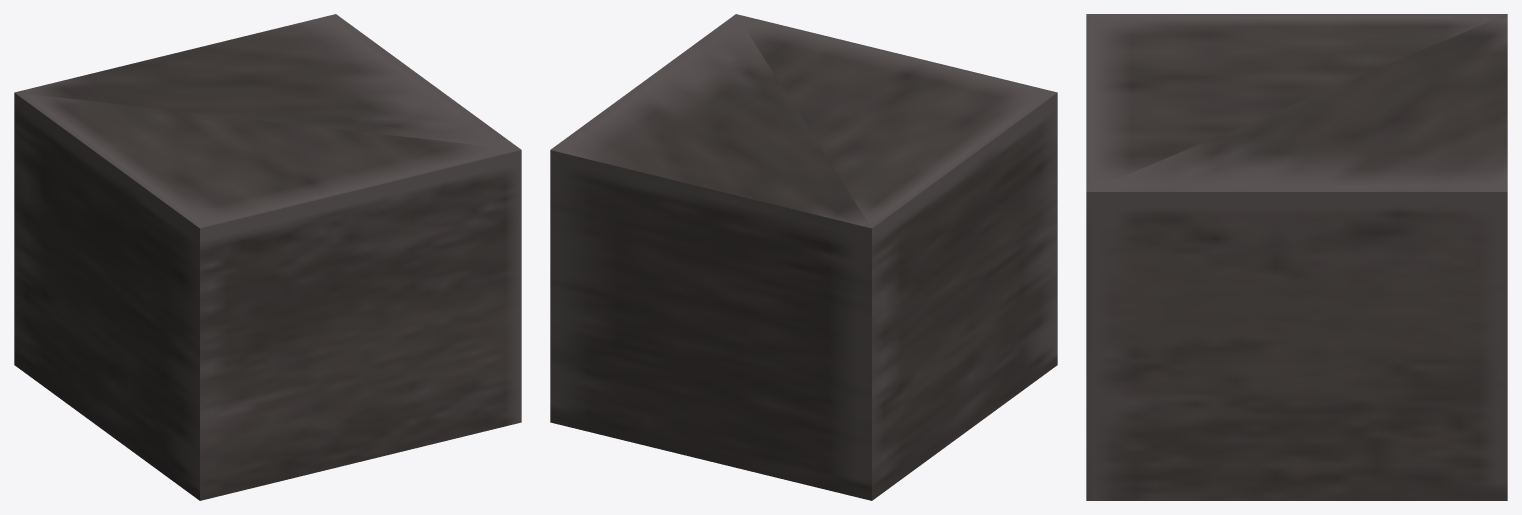
File: corner modular garden.fbx
3 renders of one model, left to right at view 1: azimuth 30°, elevation 25°; view 2: azimuth 150°, elevation 25°; view 3: azimuth 270°, elevation 25°, orthographic. The views are drawn at different scales.
Visible parts, largest first — view 1: Jardim padrao.002; view 2: Jardim padrao.002; view 3: Jardim padrao.002.
Boxes of the visible parts, <box> form: Jardim padrao.002: <box>14,14,521,500</box>; Jardim padrao.002: <box>550,14,1057,500</box>; Jardim padrao.002: <box>1086,14,1507,500</box>.
Bounding box in the file's own units: 15.35 × 12.42 × 15.35.
